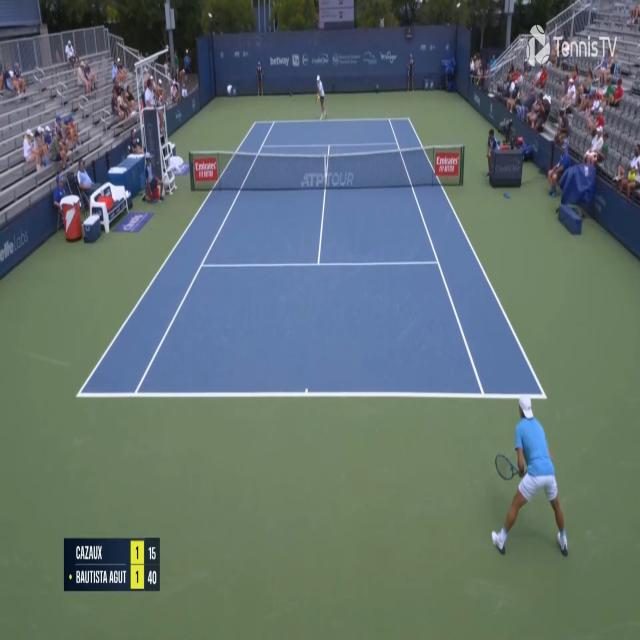tennis-player: (488, 330, 571, 561), (314, 74, 326, 122)
